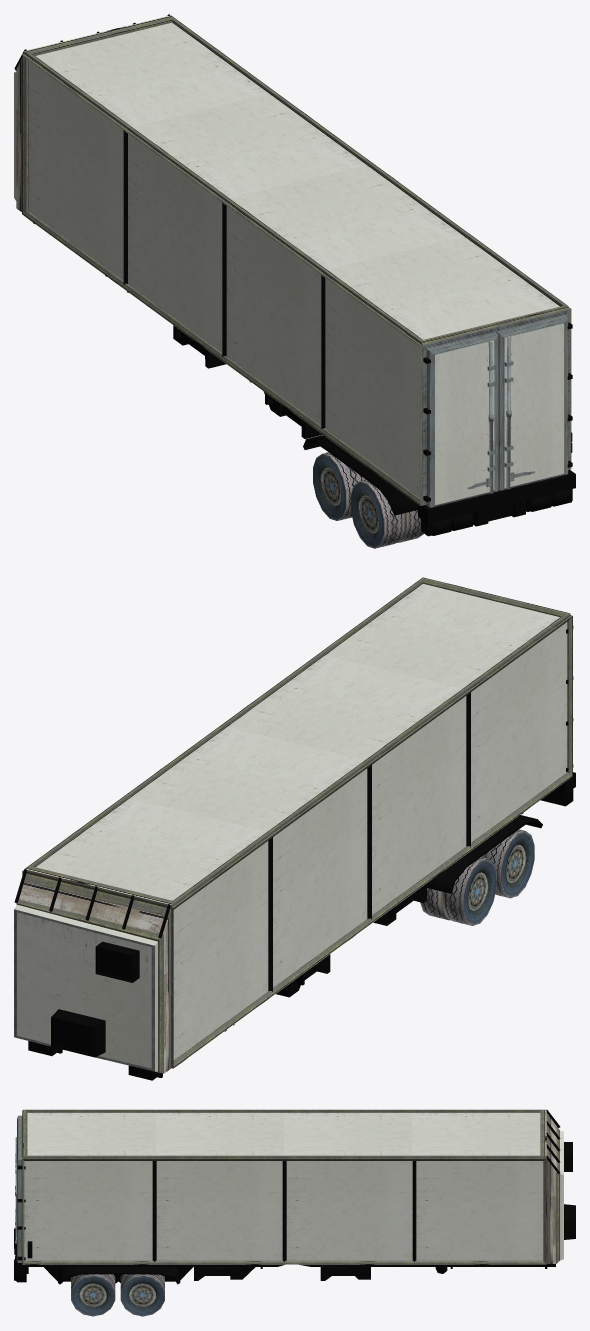
Rendered from Model_Trucks_Cooler.fbx.
3 views of the same model, one above another, from view 1: azimuth 30°, elevation 25°; view 2: azimuth 150°, elevation 25°; view 3: azimuth 270°, elevation 25° (orthographic). The views are drawn at different scales.
Visible parts, largest first — view 1: Civ_Truck_Cooler_LOD0; view 2: Civ_Truck_Cooler_LOD0; view 3: Civ_Truck_Cooler_LOD0.
Part boxes in pixels (x1,y1,x2,y2): Civ_Truck_Cooler_LOD0: (14, 14, 575, 548); Civ_Truck_Cooler_LOD0: (14, 577, 575, 1080); Civ_Truck_Cooler_LOD0: (14, 1109, 575, 1316).
Size of what is drawn, in the model's own units: 313 by 466 by 1482.
